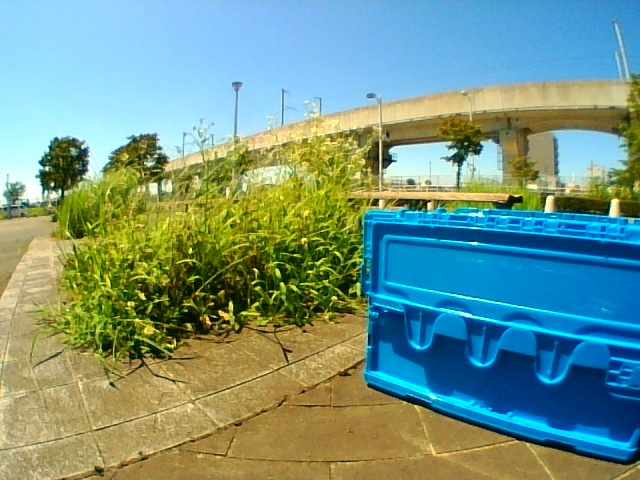blue_box: (366, 216, 640, 385)
